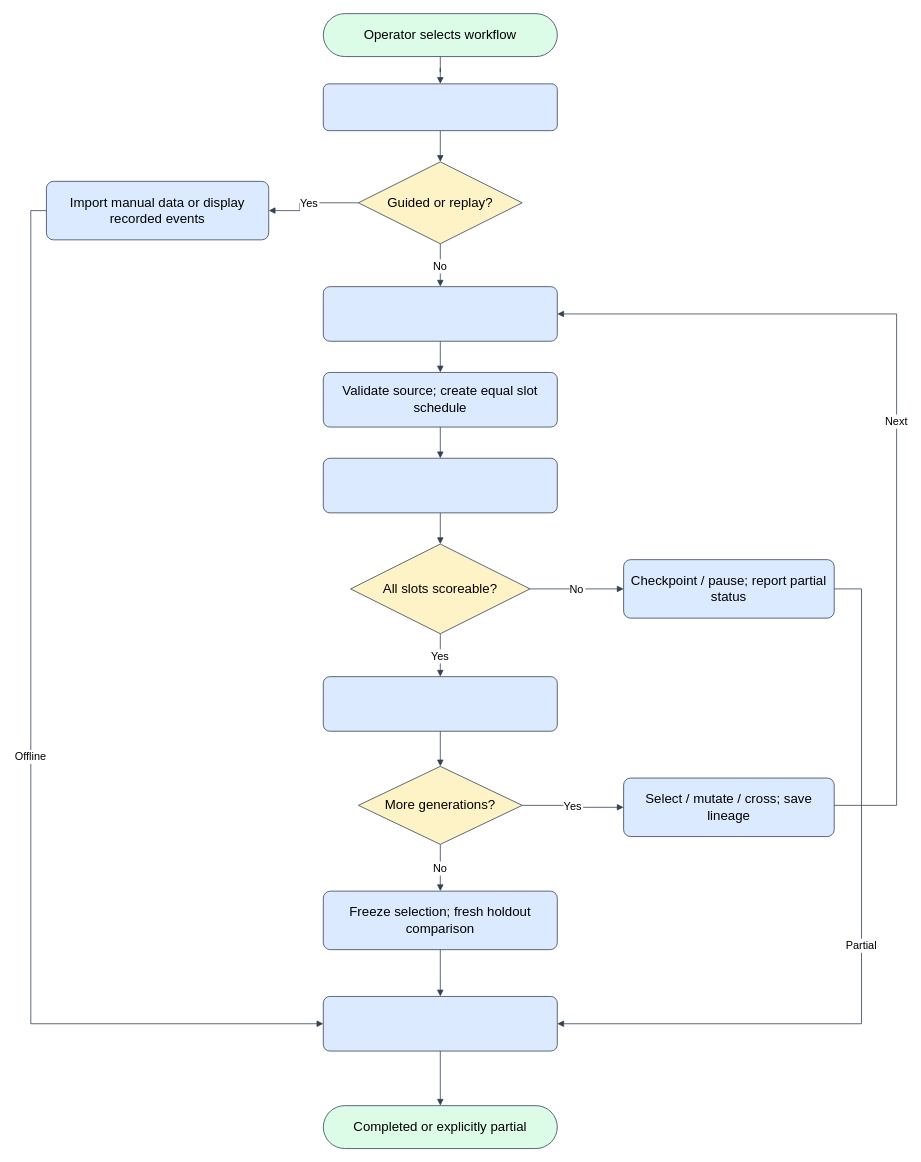
This 921x1162 diagram has some shape labels left out. Here are the shapes that lost their labels. From the top down, the box of each, then its label:
(323, 83, 557, 131): Validate configuration / fixed context
(323, 286, 557, 341): Reserve cost; obtain K bot samples
(323, 457, 557, 513): Evaluate accepted bots in isolated runner
(323, 676, 557, 731): Calculate 70/30 fitness; rank prompts
(323, 996, 557, 1051): Export reviewed evidence / comparison
